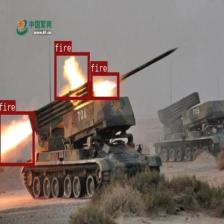fire: (0, 111, 34, 165), (54, 51, 90, 98), (90, 72, 119, 100)
